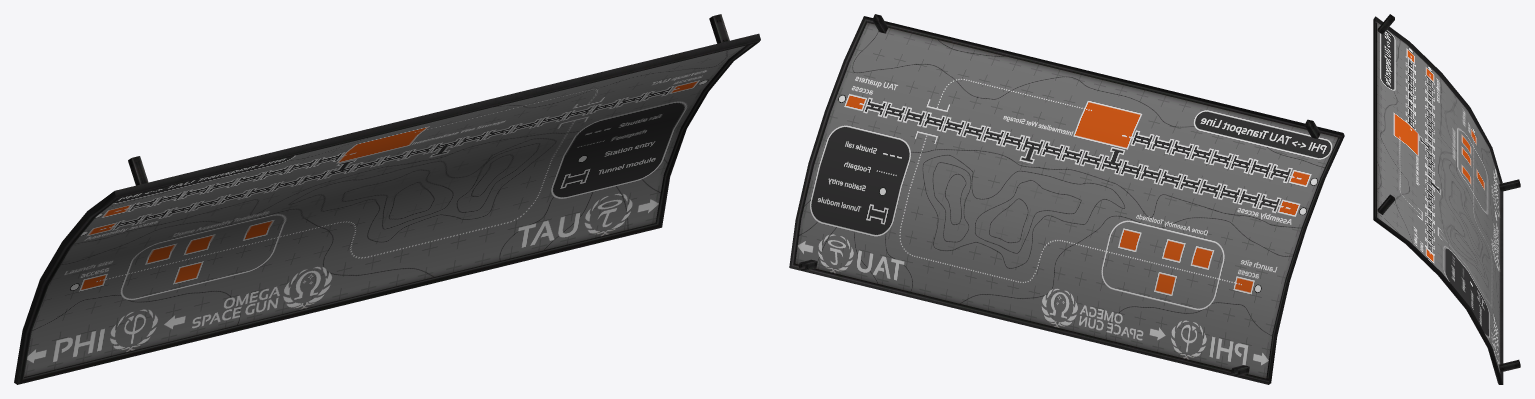
File: sign_maptau2phi.dae
The picture shows the model from 3 angles, left to right: view 1: azimuth 30°, elevation 25°; view 2: azimuth 150°, elevation 25°; view 3: azimuth 270°, elevation 25°; orthographic projection. The views are drawn at different scales.
Parts seen in each view (by area): view 1: polySurface453; view 2: polySurface453; view 3: polySurface453.
Boxes of the visible parts, <box> form: polySurface453: <box>14,14,760,384</box>; polySurface453: <box>789,14,1344,384</box>; polySurface453: <box>1373,14,1520,384</box>.
Bounding box in the file's own units: 3.15 × 1.32 × 0.9801.
